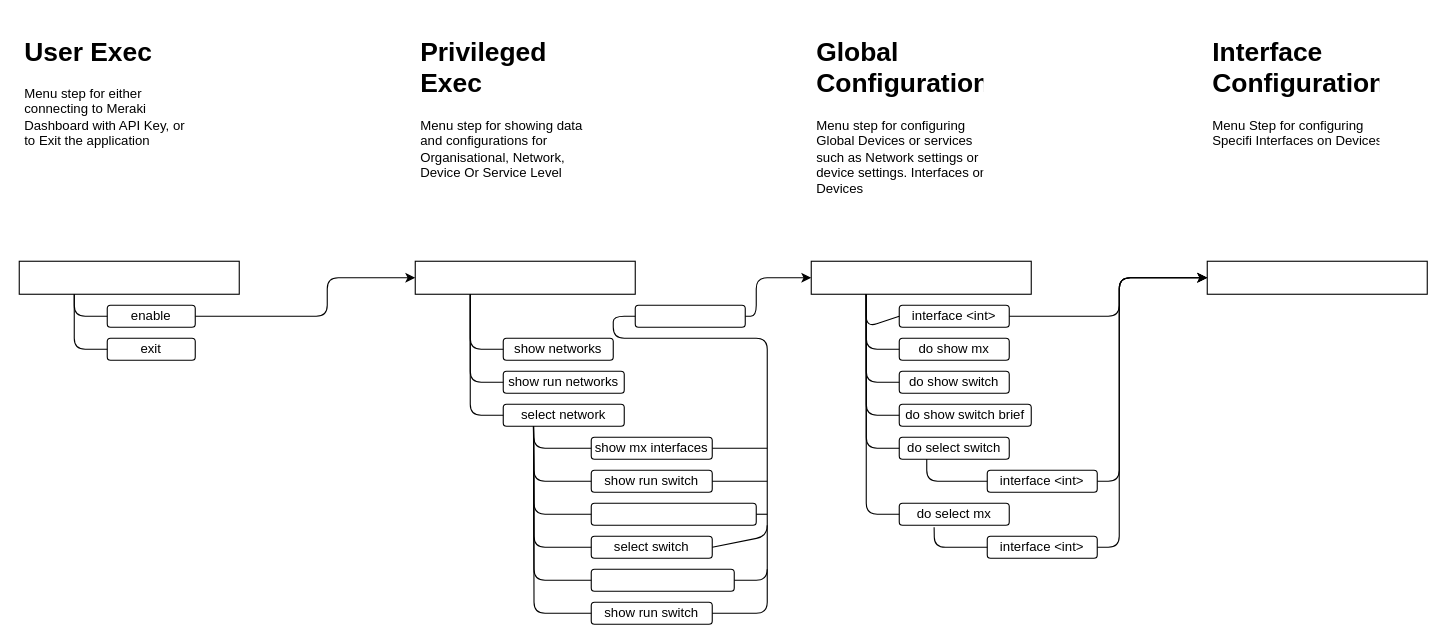
Image size: 1447x644. Some labels were removed from this diagram. Here are the shapes that lost their labels. From the top down, the centre of each, then its label:
the point at 128,277: User Exec
the point at 524,277: Privileged Exec
the point at 920,277: Global Configurations
the point at 1316,277: Interface Configurations
the point at 689,315: configure
the point at 673,513: show switch interface brief
the point at 662,579: show interface trunks
